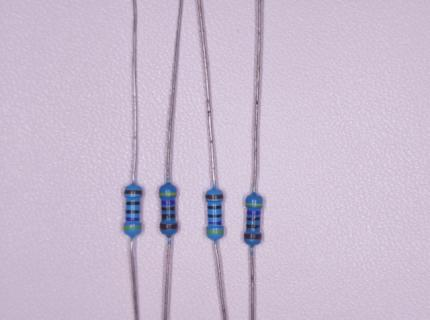Black band: (246, 224, 261, 229), (161, 214, 176, 219), (125, 209, 140, 214), (126, 201, 140, 206), (246, 217, 261, 221), (207, 205, 222, 209), (161, 207, 176, 211), (208, 214, 222, 218)
Brown band: (243, 233, 262, 240), (160, 223, 178, 230), (124, 190, 142, 195), (205, 194, 223, 199)
Violet band: (246, 210, 261, 215), (125, 217, 140, 221), (161, 201, 175, 205), (208, 221, 222, 225)
Yellow band: (245, 203, 264, 207), (206, 230, 224, 234), (159, 192, 177, 196), (123, 226, 141, 230)
